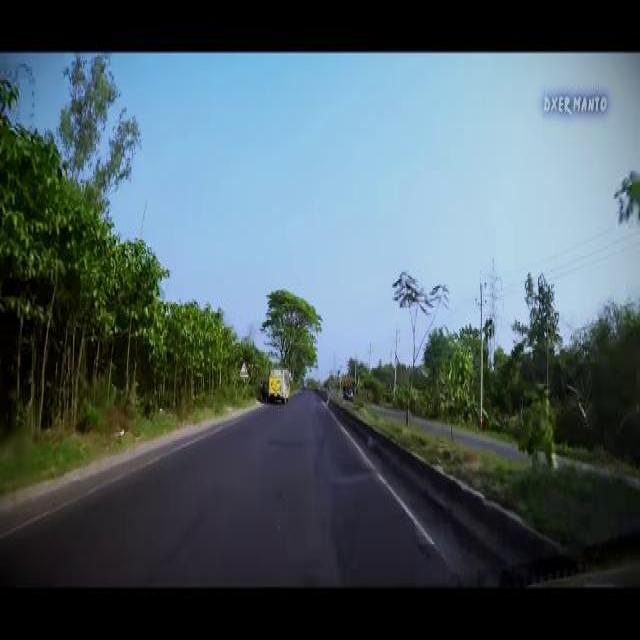bus: (266, 366, 290, 406)
car: (342, 384, 352, 398)
